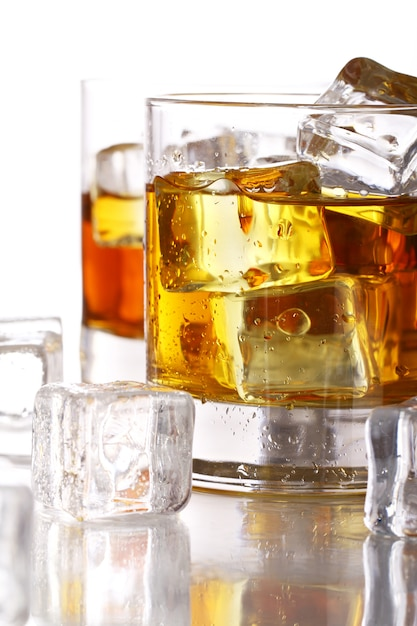alcohol: (147, 70, 417, 507), (73, 66, 163, 394)
